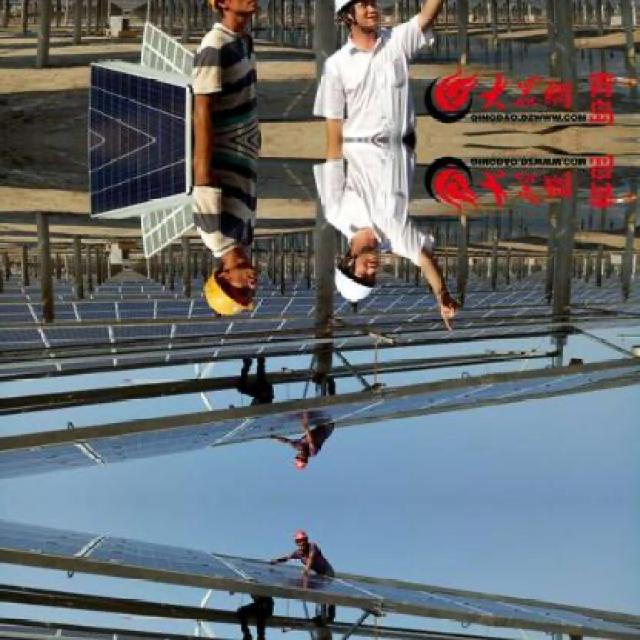con casco: (183, 234, 267, 335), (339, 216, 400, 307)
